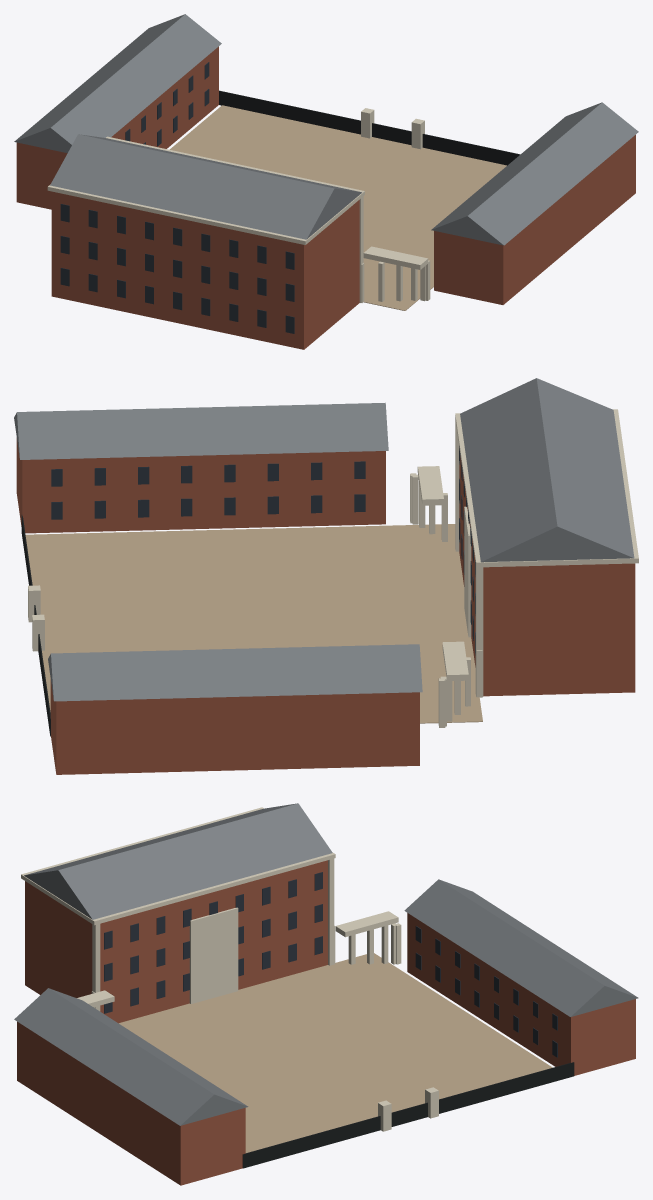
The model's file is buckingham-site-b10.glb.
3 renders of one model, top to bottom at view 1: azimuth 30°, elevation 25°; view 2: azimuth 150°, elevation 25°; view 3: azimuth 270°, elevation 25°, orthographic. The views are drawn at different scales.
Size of the model in its own units: 89.94 by 21.52 by 88.24.
